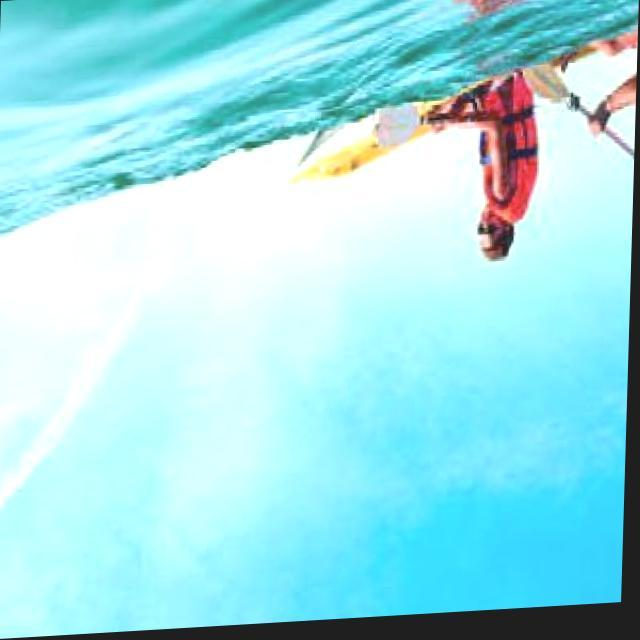kayak: (293, 113, 430, 185)
